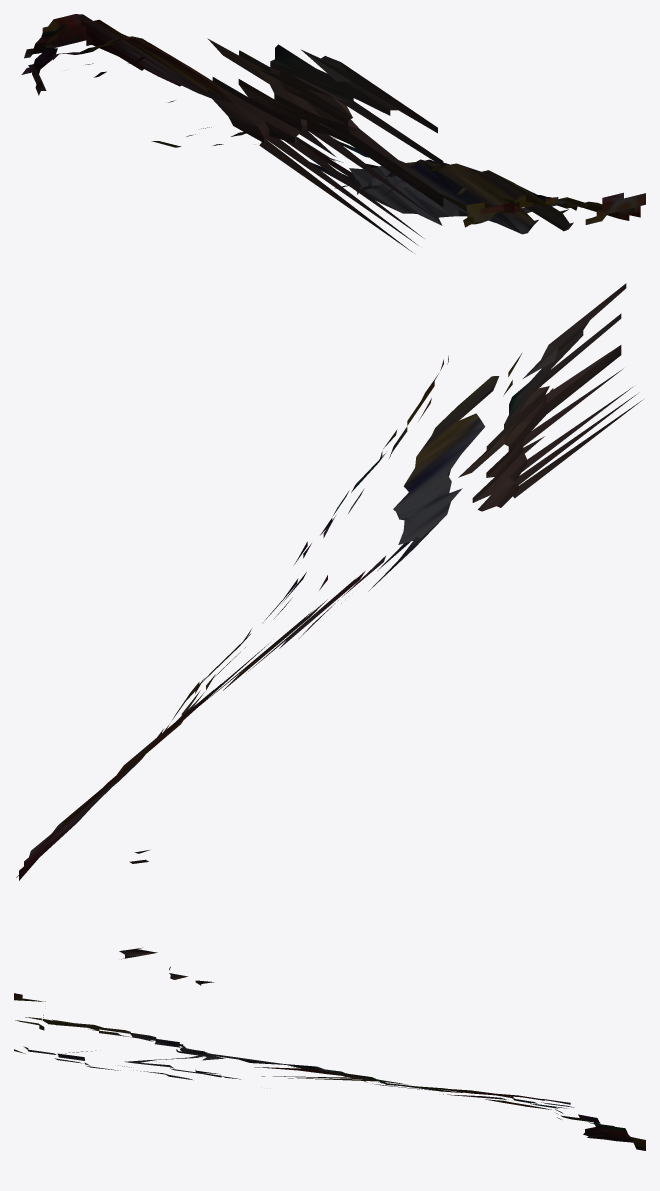
Rendered from frame_00105.glb.
3 renders of one model, top to bottom at view 1: azimuth 30°, elevation 25°; view 2: azimuth 150°, elevation 25°; view 3: azimuth 270°, elevation 25°, orthographic. The views are drawn at different scales.
Visible parts, largest first — view 1: geometry_0; view 2: geometry_0; view 3: geometry_0.
Part boxes in pixels (<box>): geometry_0: <box>21,14,645,253</box>; geometry_0: <box>16,283,643,880</box>; geometry_0: <box>14,947,645,1150</box>.
Bounding box in the file's own units: 0.0436 × 0.0572 × 0.16.
1 material, 1 textured.
